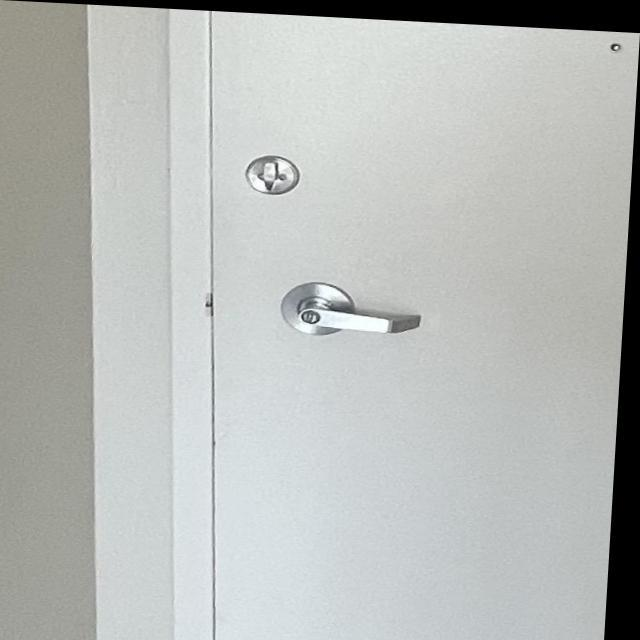door_handle: (258, 266, 443, 353)
